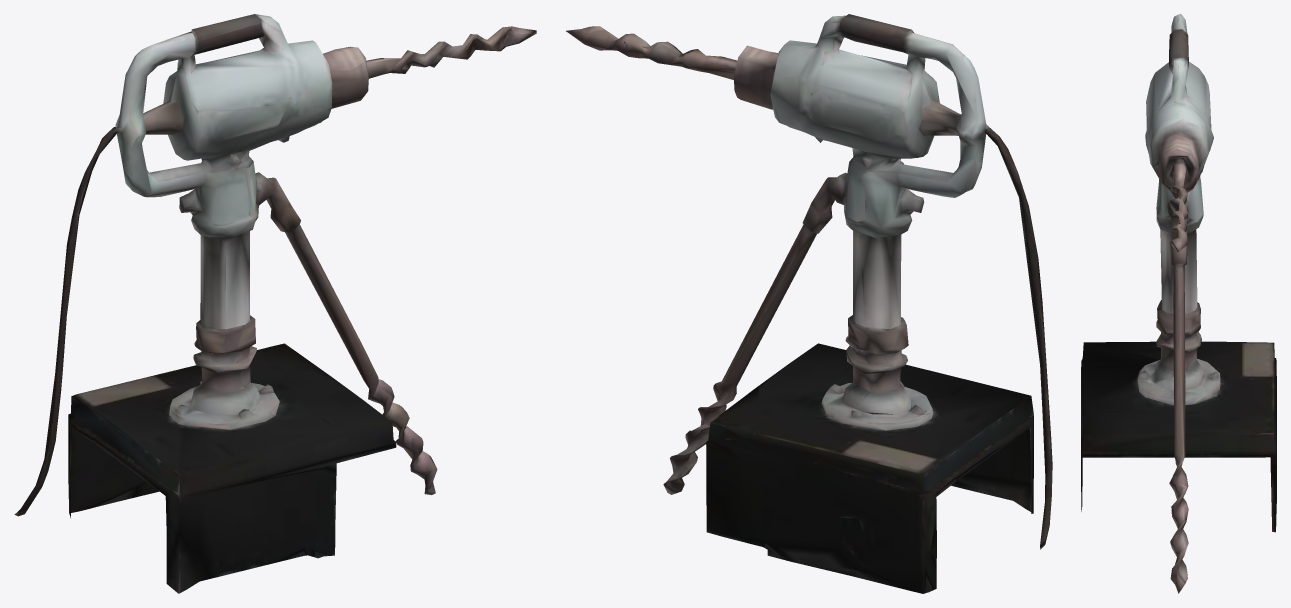
Rendered from perforadora.movil.glb.
3 renders of one model, left to right at view 1: azimuth 30°, elevation 25°; view 2: azimuth 150°, elevation 25°; view 3: azimuth 270°, elevation 25°, orthographic. The views are drawn at different scales.
Parts seen in each view (by area): view 1: geometry_0; view 2: geometry_0; view 3: geometry_0.
Boxes of the visible parts, box(x1,y1,x2,y2) form: geometry_0: box(14, 14, 536, 593); geometry_0: box(566, 14, 1052, 593); geometry_0: box(1081, 14, 1276, 593).
Bounding box in the file's own units: 1.3 × 1.3 × 0.4998.
1 material, 1 textured.
